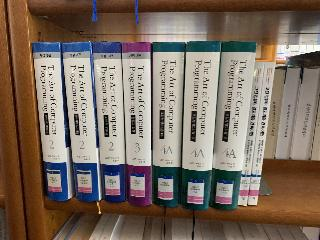book-spine: (203, 38, 256, 211), (175, 39, 221, 210), (61, 42, 100, 202), (32, 41, 70, 202), (152, 42, 185, 206), (93, 42, 126, 204), (122, 42, 153, 206), (236, 60, 265, 206), (247, 61, 276, 206)
